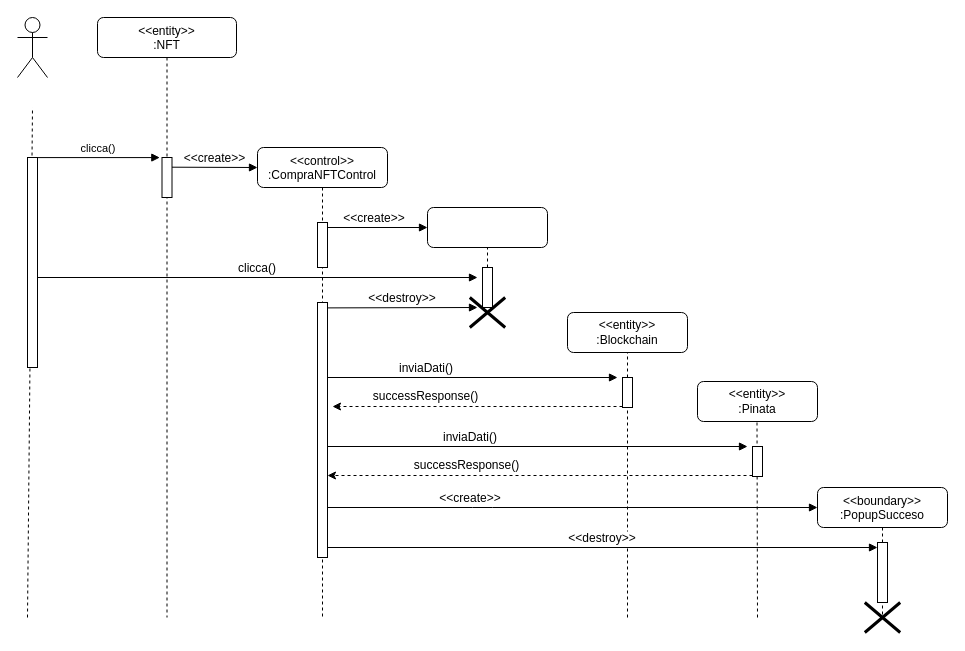
Image size: 965x651. Some labels were removed from this diagram. Here are the shapes that lost their labels. From the top down, the centre of each, then its label:
(x=32, y=47): :User
(x=487, y=227): <<boundary>> :CompraNFTButton
